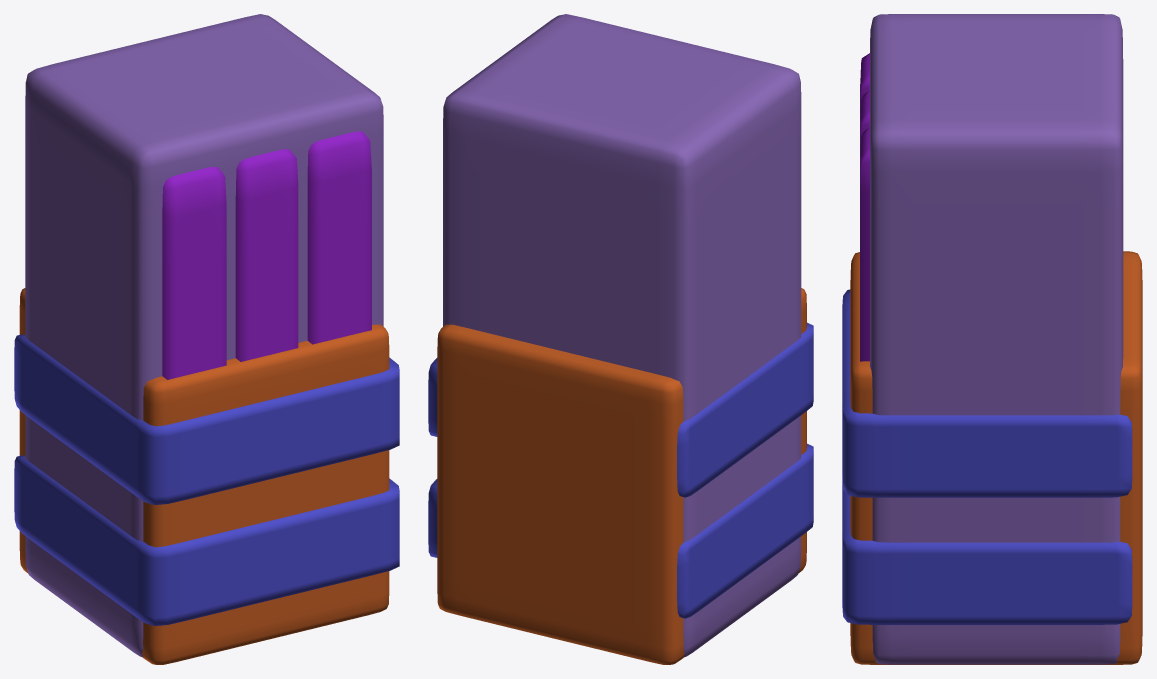
Rendered from city_ScenarioBuildings.fbx.
The picture shows the model from 3 angles, left to right: view 1: azimuth 30°, elevation 25°; view 2: azimuth 150°, elevation 25°; view 3: azimuth 270°, elevation 25°; orthographic projection. The views are drawn at different scales.
Visible parts, largest first — view 1: Building_3, Building_2; view 2: Building_3, Building_2; view 3: Building_3, Building_2.
Boxes of the visible parts, box(x1,y1,x2,y2) form: Building_3: box(25, 14, 383, 657); Building_2: box(14, 288, 399, 664); Building_3: box(443, 14, 801, 656); Building_2: box(428, 288, 813, 664); Building_3: box(860, 14, 1123, 664); Building_2: box(842, 251, 1142, 664).
Bounding box in the file's own units: 2.62 × 5.01 × 2.54.
